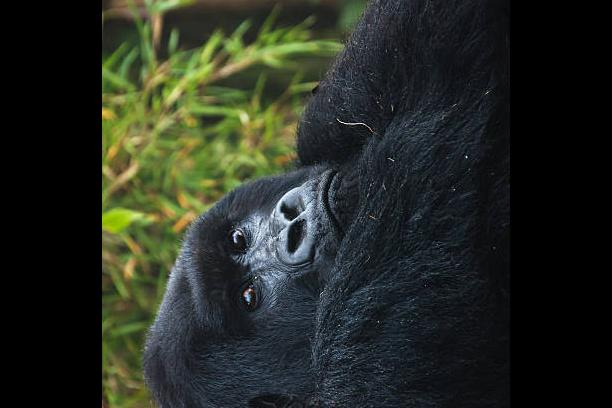goriile_montagne: (128, 0, 499, 408)
